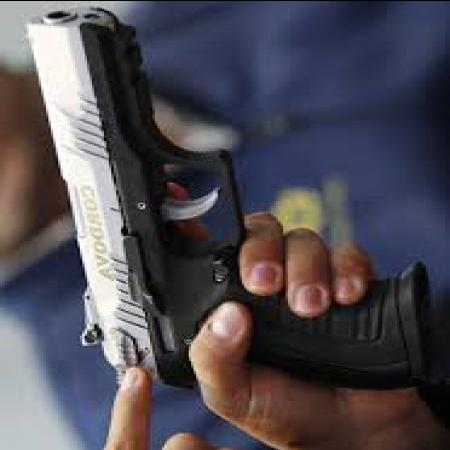Pistol: (13, 2, 430, 386)
